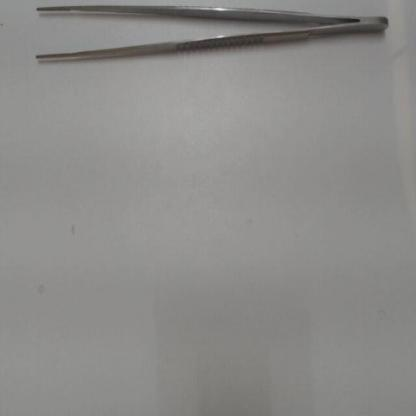DeBakey Dissector: (28, 2, 411, 71)
